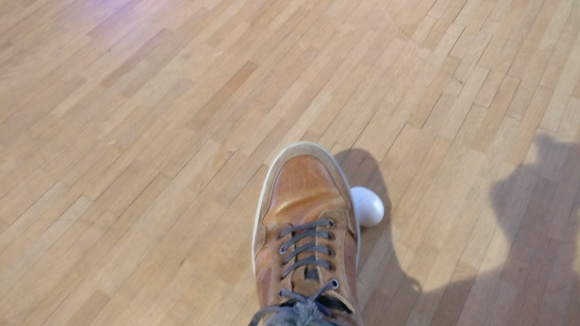egg: (351, 186, 386, 227)
